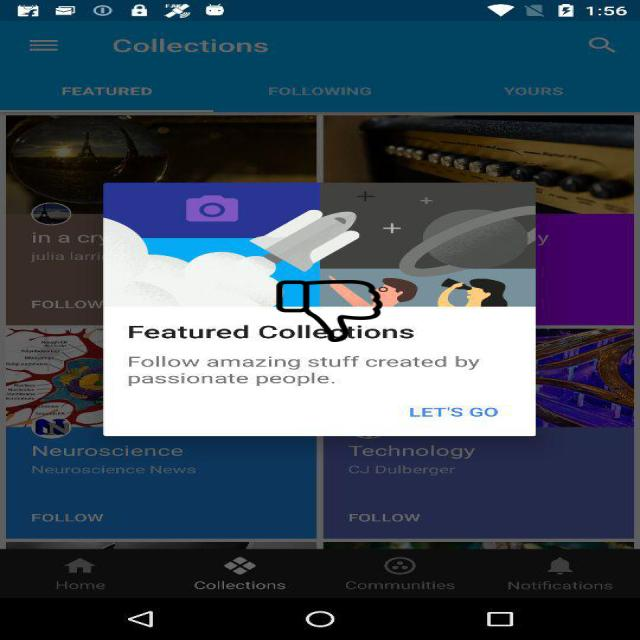obstruction: (275, 280, 384, 342)
